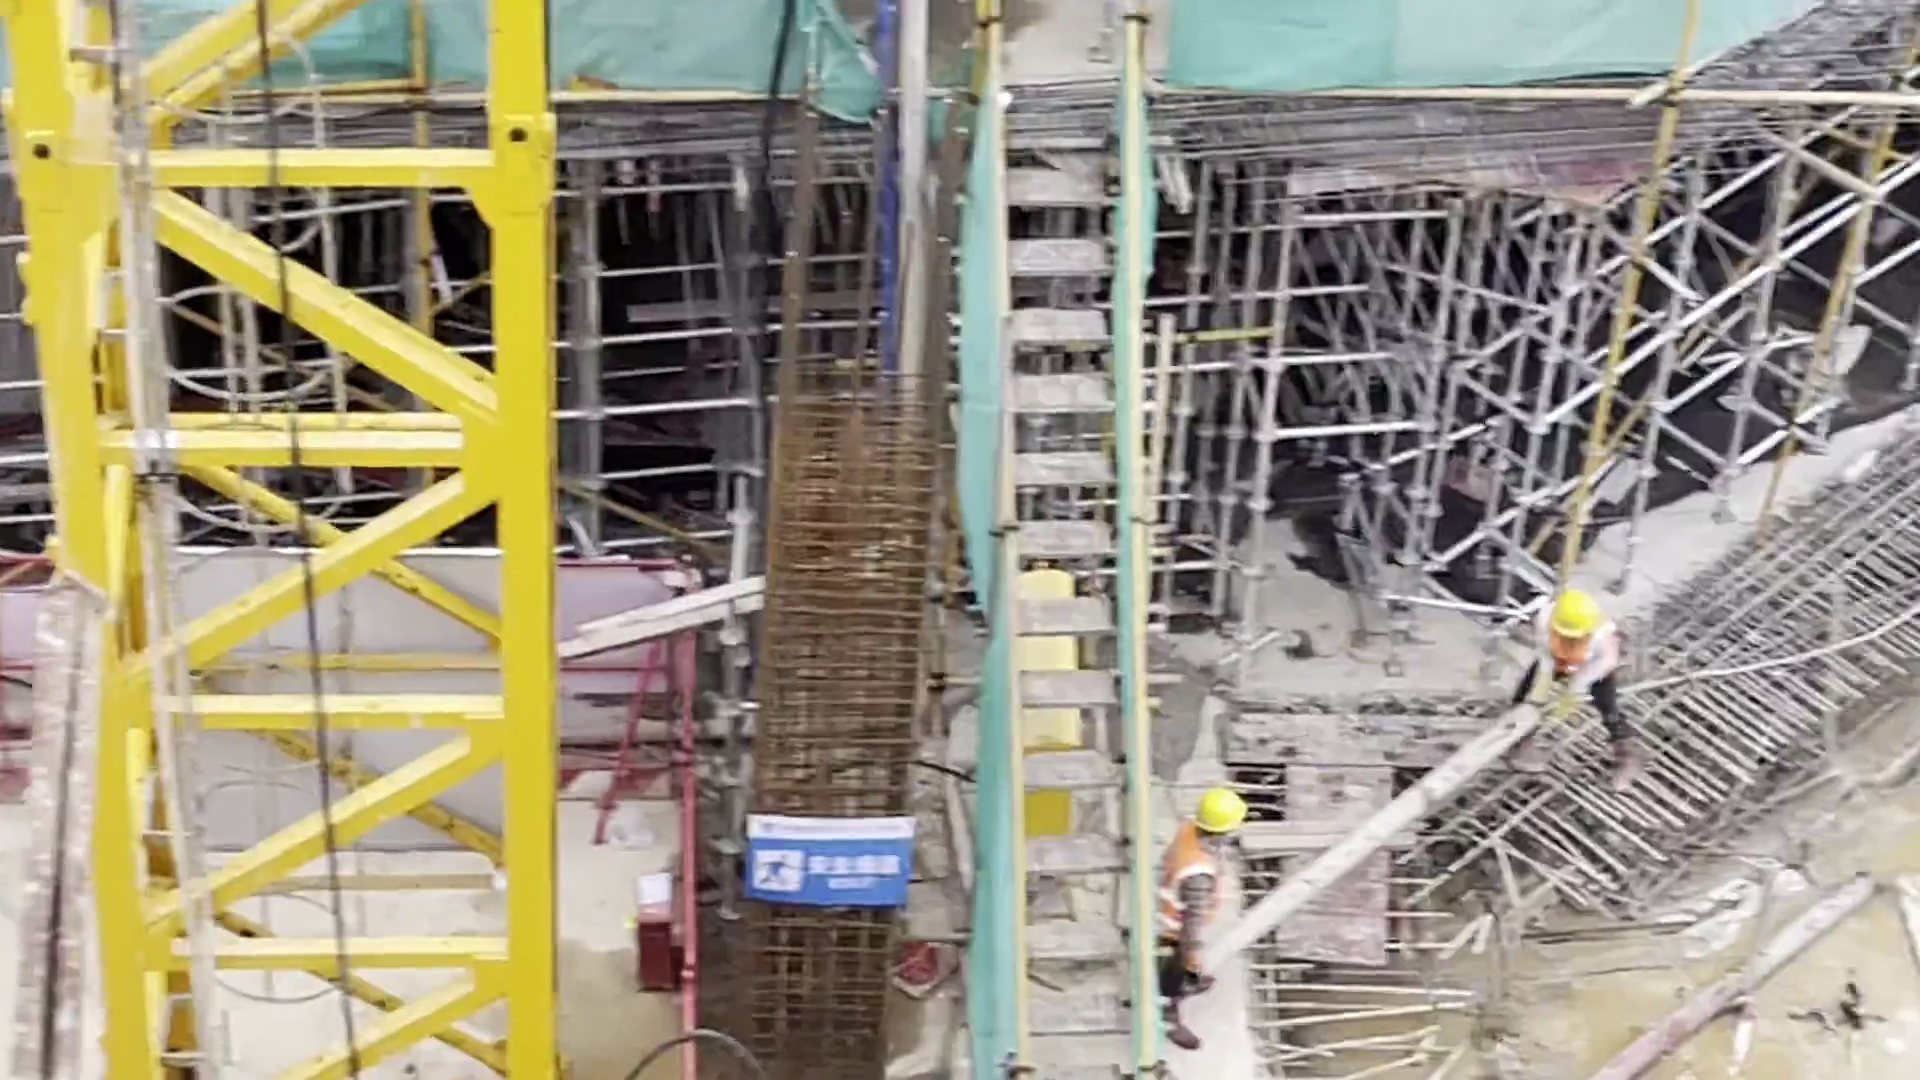helmet: (1549, 593, 1599, 638), (1195, 785, 1240, 834)
person: (1515, 589, 1655, 785), (1155, 783, 1249, 1054)
vest: (1155, 837, 1218, 954), (1548, 630, 1604, 683)
